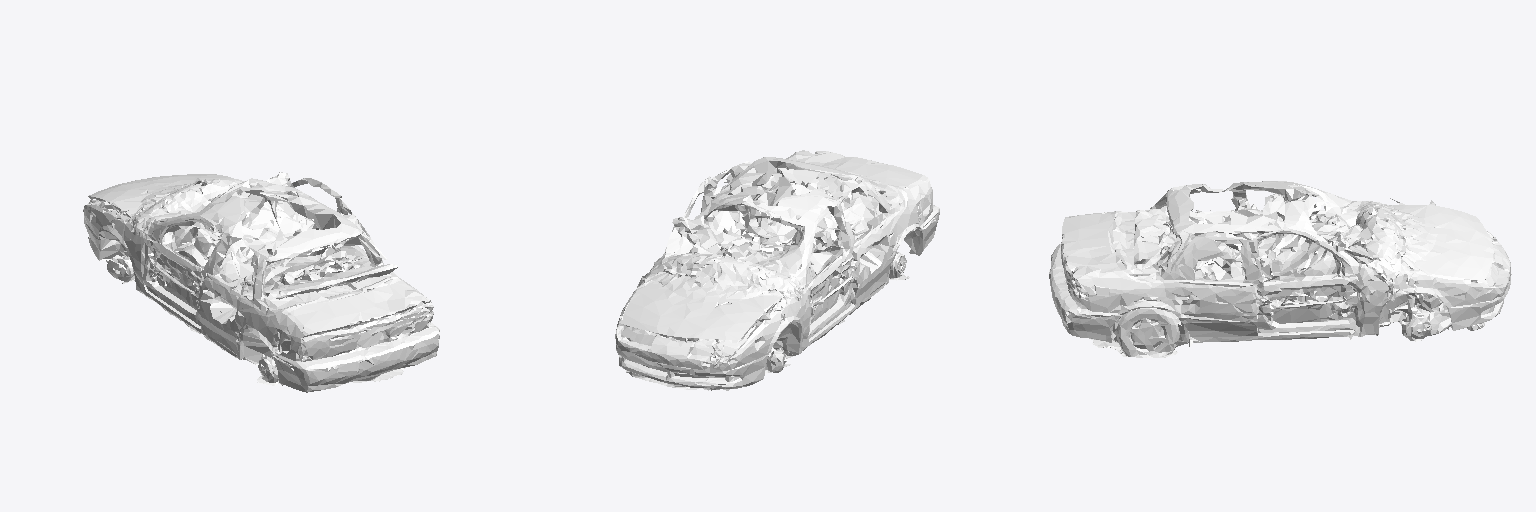
File: CarScan04.obj
3 views of the same model, side by side, from view 1: azimuth 30°, elevation 25°; view 2: azimuth 150°, elevation 25°; view 3: azimuth 270°, elevation 25° (orthographic).
Visible parts, largest first — view 1: saturn_dead; view 2: saturn_dead; view 3: saturn_dead.
Boxes of the visible parts, box(x1,y1,x2,y2) form: saturn_dead: box(83, 172, 439, 392); saturn_dead: box(615, 150, 939, 390); saturn_dead: box(1049, 181, 1511, 357).
Size of the model in its own units: 10.52 by 7.69 by 25.35.